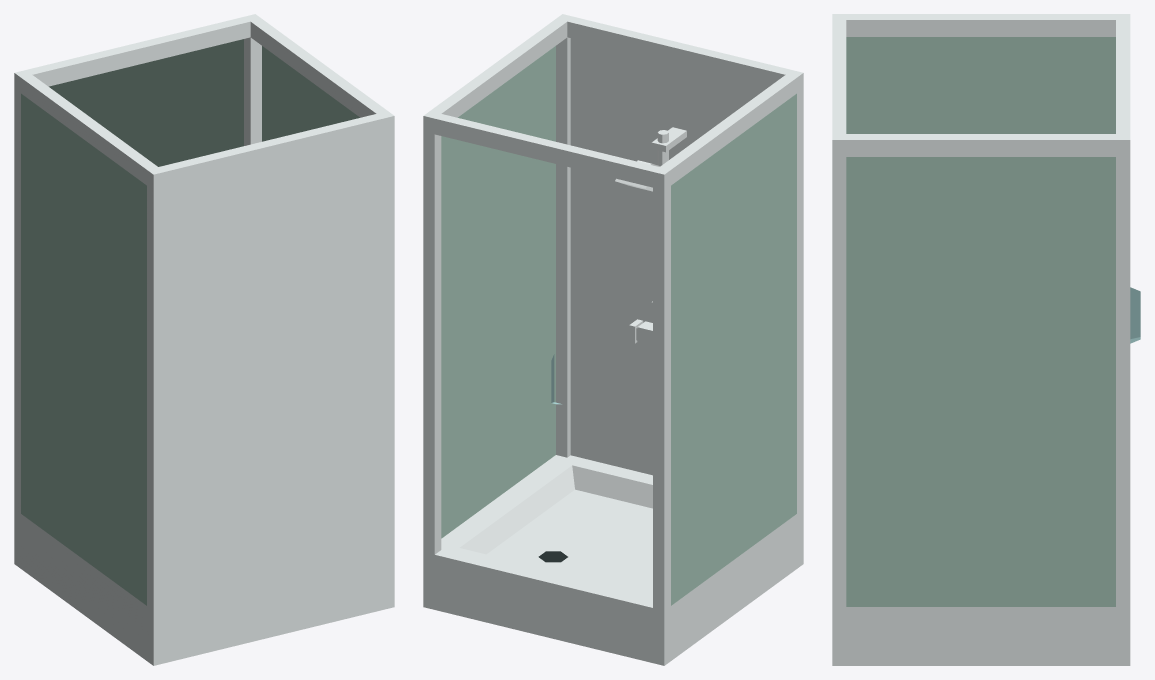
The model's file is shower.glb.
The picture shows the model from 3 angles, left to right: view 1: azimuth 30°, elevation 25°; view 2: azimuth 150°, elevation 25°; view 3: azimuth 270°, elevation 25°; orthographic projection. The views are drawn at different scales.
Parts seen in each view (by area): view 1: shower, doorLeft 3, doorRight 3; view 2: shower; view 3: shower, doorRight 3.
Part boxes in pixels (x1,y1,x2,y2): shower: [14, 14, 394, 665]; doorLeft 3: [135, 39, 243, 166]; doorRight 3: [49, 65, 134, 149]; shower: [423, 14, 803, 665]; shower: [832, 14, 1130, 665]; doorRight 3: [1130, 287, 1140, 343].
Size of the model in its own units: 5.62 by 10.94 by 5.82.
